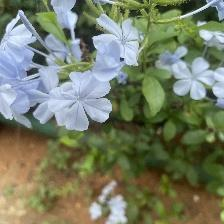chitrak: (54, 70, 113, 128), (96, 15, 147, 67), (32, 65, 70, 127), (1, 65, 36, 132), (1, 17, 35, 71), (173, 59, 215, 102)
